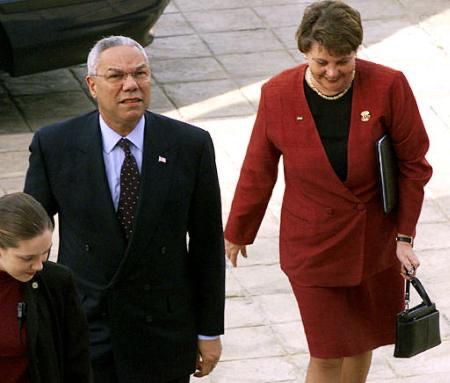Face: (95, 56, 153, 121), (7, 231, 52, 290), (306, 49, 356, 99)
